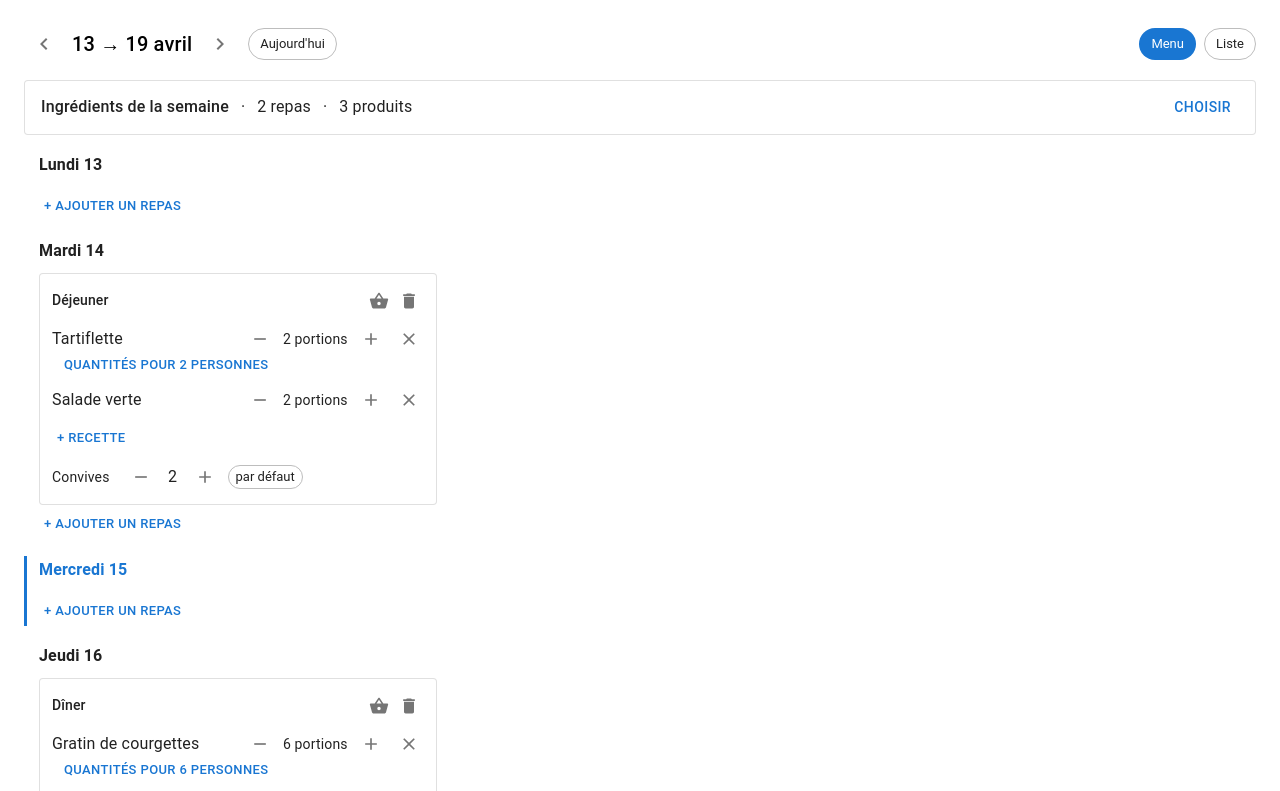
Test: MealsPage — one page, two views of the same week › the Liste view changes the convives and deletes a meal like the card does
expect the element with test id "meal-01LUNCH" is shown: met, box top-left (39, 273), bottom-right (437, 505)
Click the button "Liste" at (1230, 44), box top-left (1204, 28), bottom-right (1256, 60)
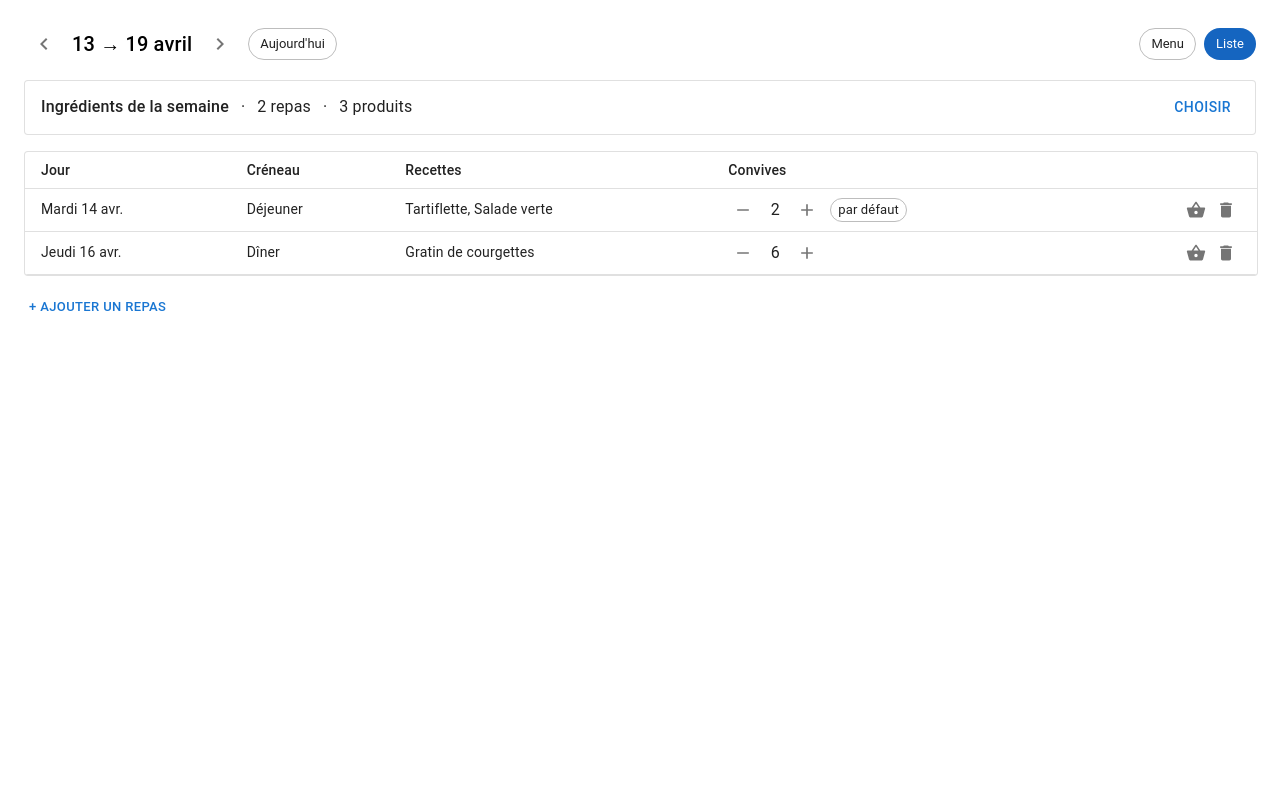
Click the button named "Un convive de plus" at (807, 252), box top-left (792, 238), bottom-right (822, 268)
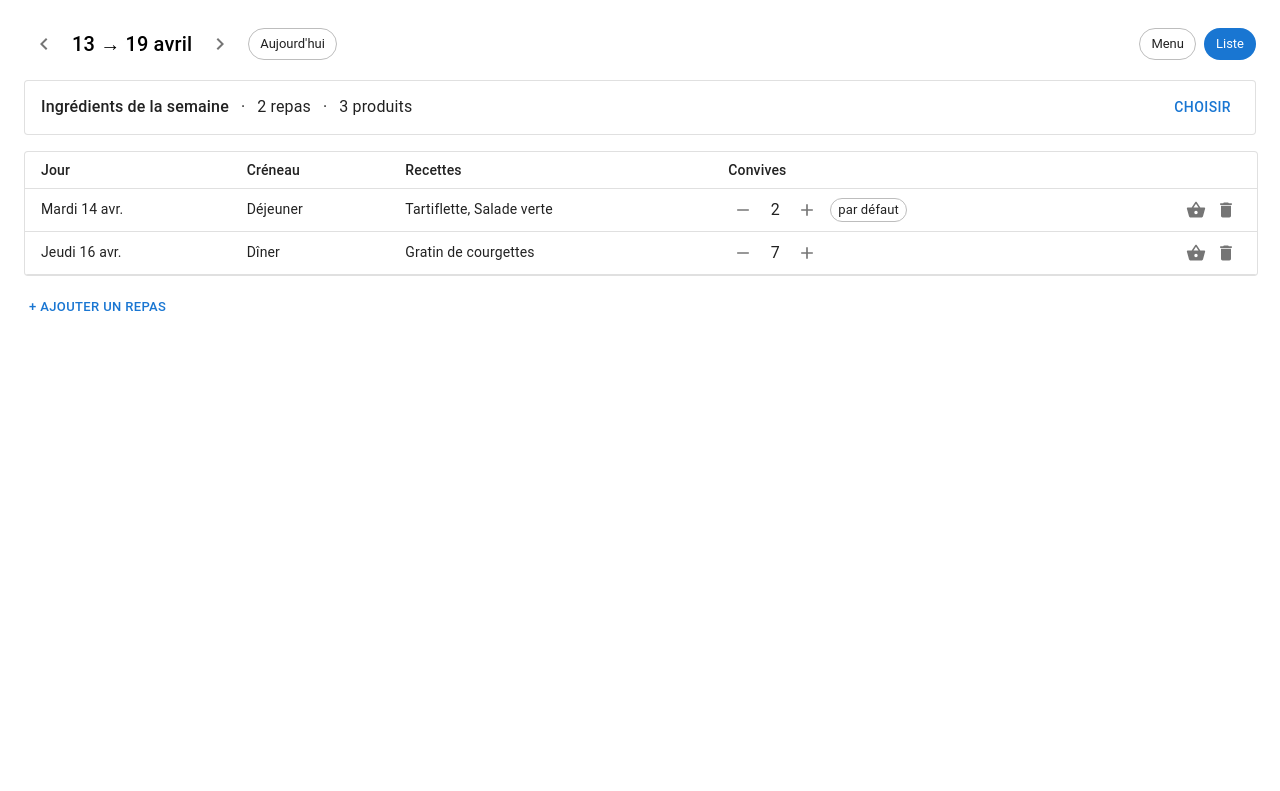
Click the button named "Supprimer le repas Dîner : Gratin de courgettes" at (1226, 252), box top-left (1211, 238), bottom-right (1241, 268)
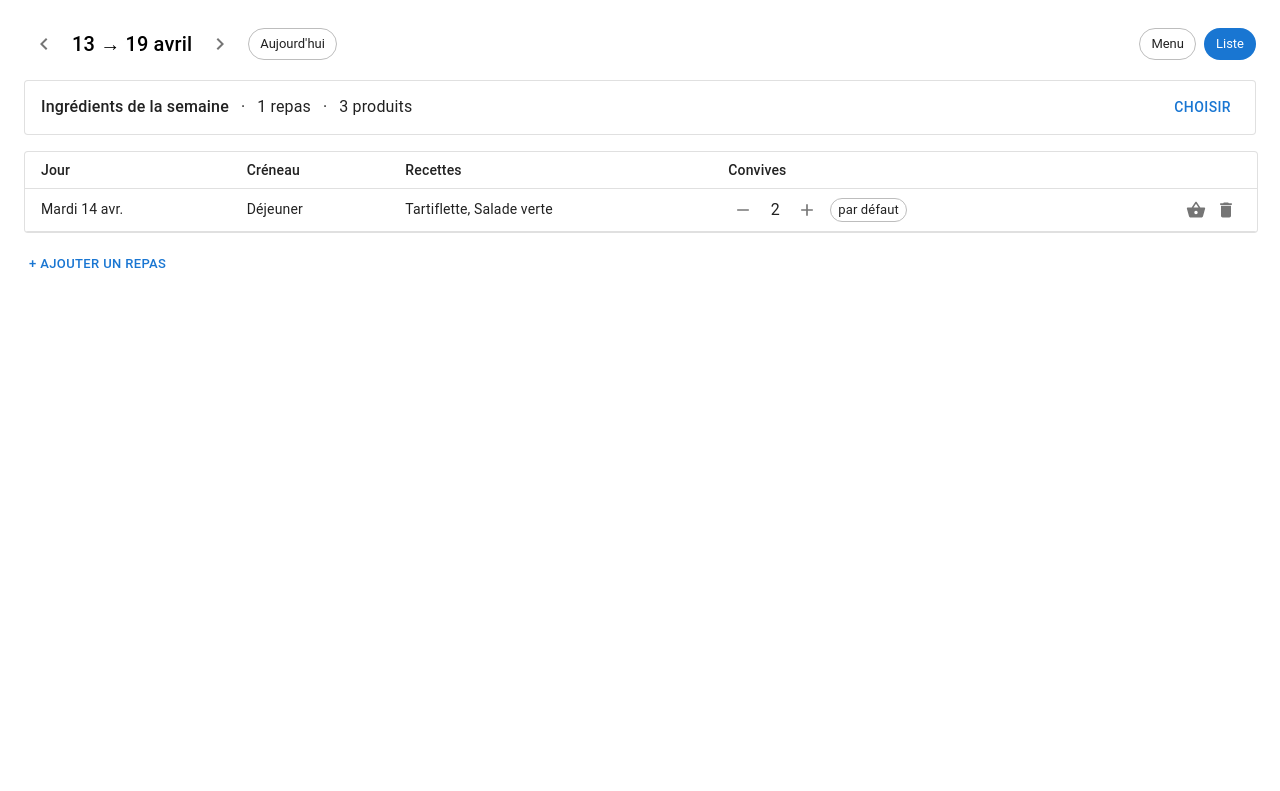
expect the row with test id "meal-row-01DINNER" is gone: met
